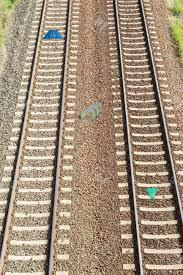Color_steel: (43, 26, 65, 43)
Dust_screen: (139, 183, 161, 203)
Green_house: (78, 100, 105, 127)
